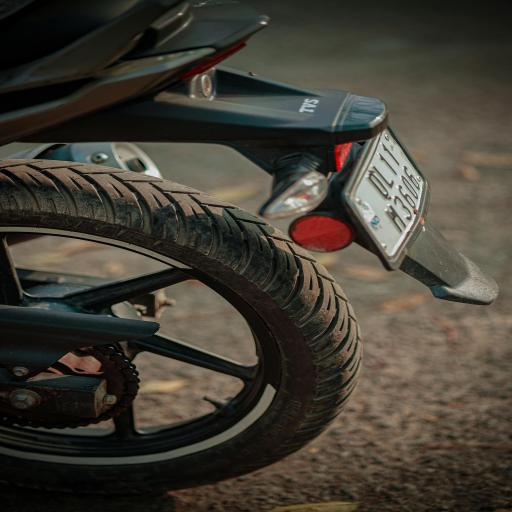place: (348, 134, 428, 244)
